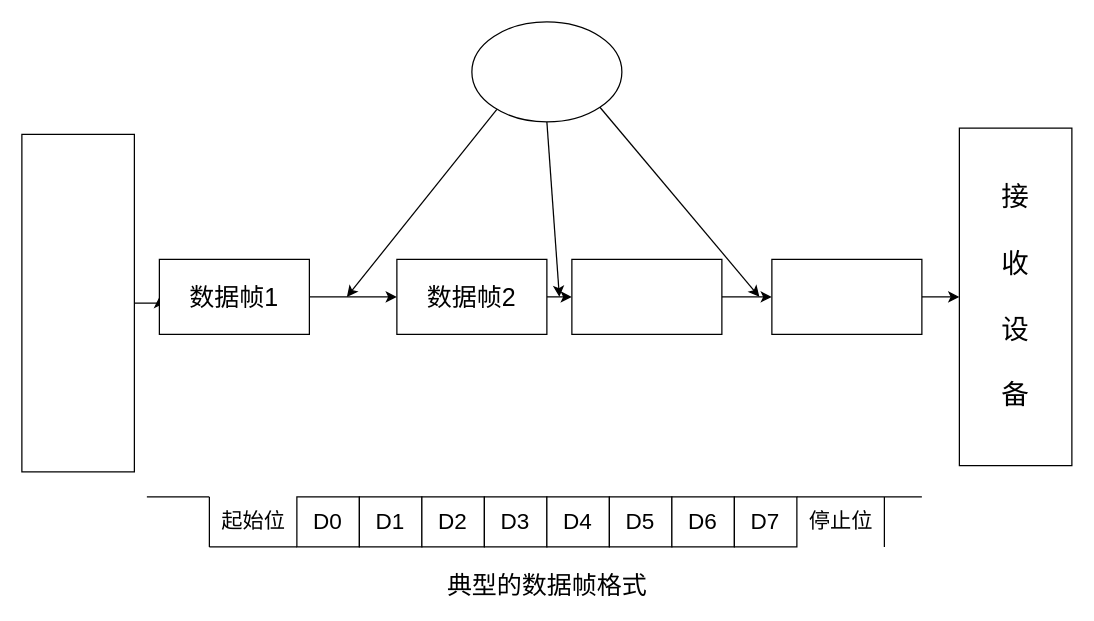
The diagram is 1094 pixels wide and 621 high, and some of its shapes have lost their labels. Each missing label, with the centre of its shape:
发 送 设 备: the point at 77,302
帧间隔任意: the point at 546,71
数据帧3: the point at 646,296
数据帧4: the point at 846,296
